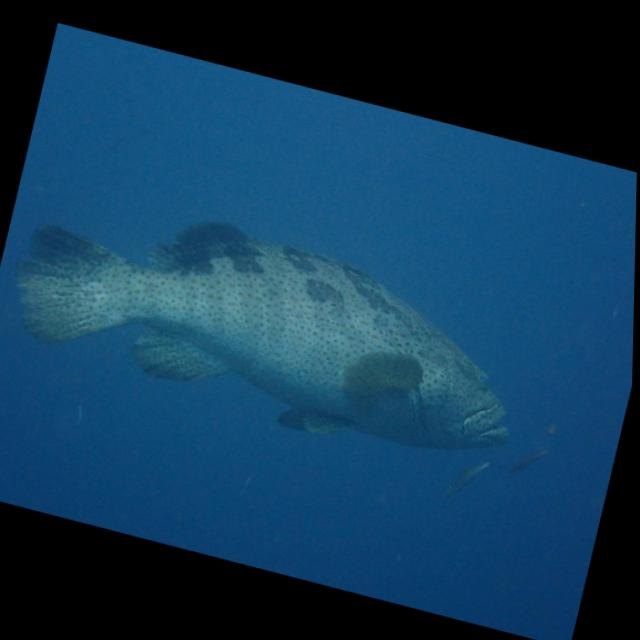Groupers: (0, 169, 541, 484)
